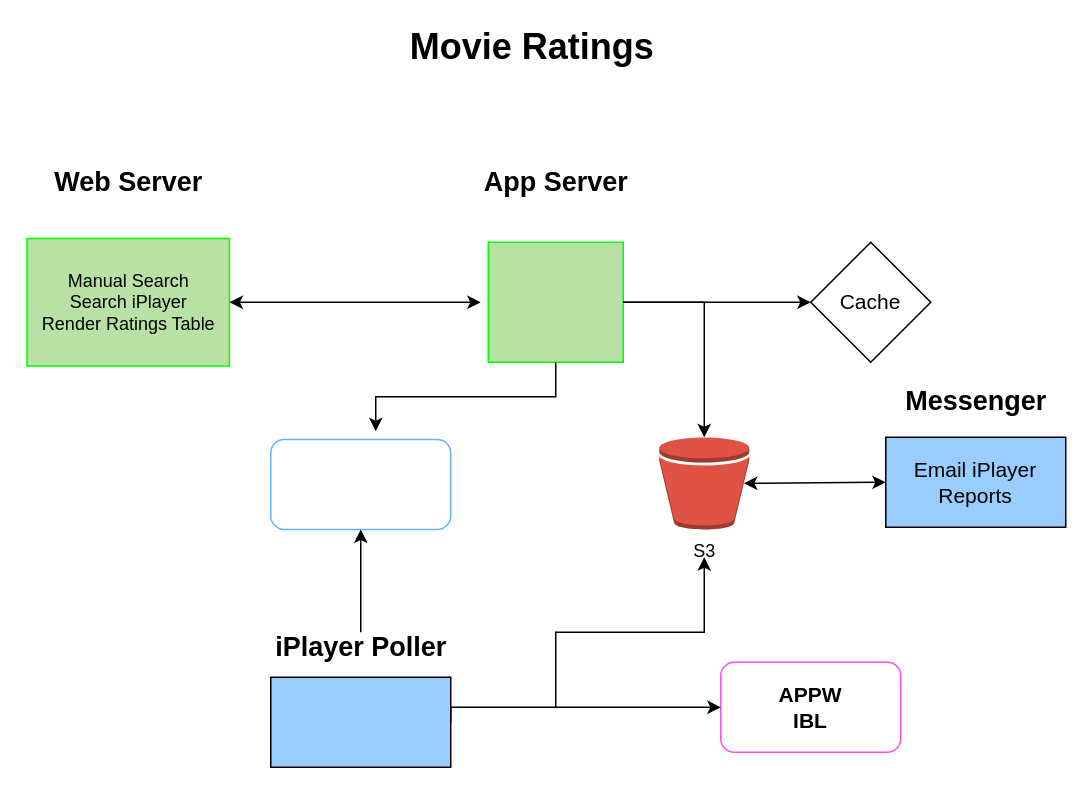
This 1092x794 diagram has some shape labels left out. The shapes that lost their labels are listed below. From the top down, each one's box as (x1, y1, x2, y2) in pixels, then its label:
(487, 241, 623, 362): Fetch Compute Sort
(269, 438, 451, 530): OMDb
(269, 676, 451, 767): Query Compute Generate Reports
